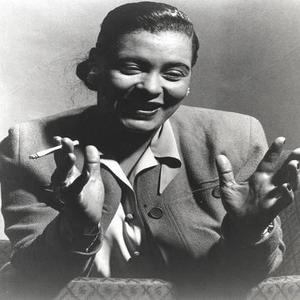cigarette: (26, 139, 80, 162)
